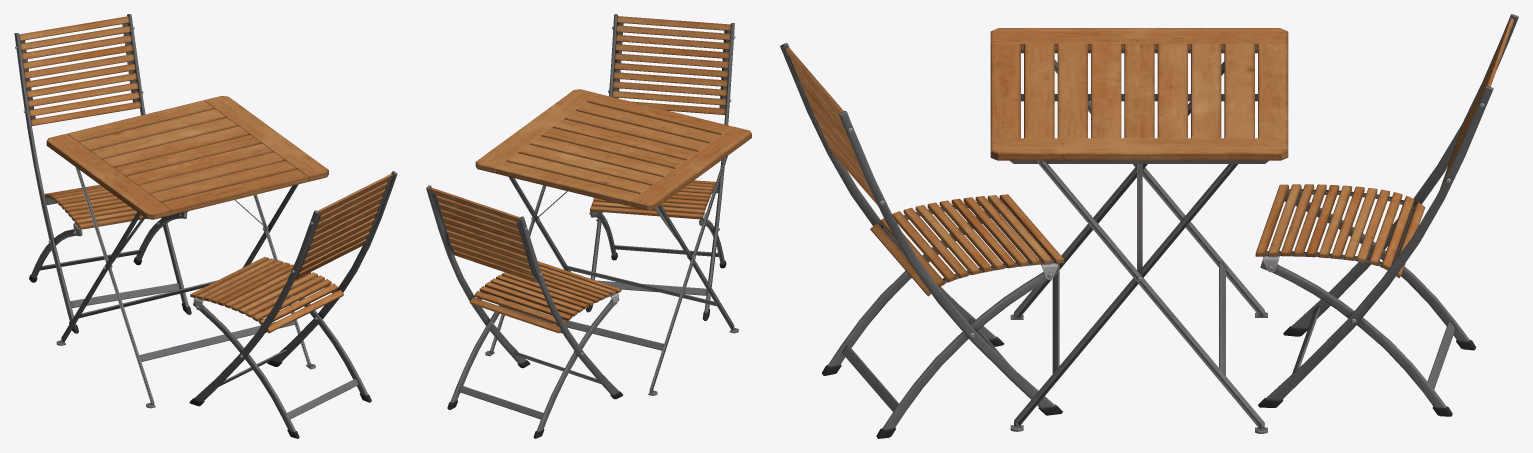
The model's file is outdoor_table_chair_set_01.glb.
3 renders of one model, left to right at view 1: azimuth 30°, elevation 25°; view 2: azimuth 150°, elevation 25°; view 3: azimuth 270°, elevation 25°, orthographic. The views are drawn at different scales.
Parts seen in each view (by area): view 1: outdoor_table_chair_set_01_chair_01, outdoor_table_chair_set_01_table; view 2: outdoor_table_chair_set_01_chair_01, outdoor_table_chair_set_01_table; view 3: outdoor_table_chair_set_01_table, outdoor_table_chair_set_01_chair_01.
Boxes of the visible parts, <box> form: outdoor_table_chair_set_01_chair_01: <box>14,14,397,438</box>; outdoor_table_chair_set_01_table: <box>46,96,328,408</box>; outdoor_table_chair_set_01_chair_01: <box>426,14,735,438</box>; outdoor_table_chair_set_01_table: <box>475,89,751,395</box>; outdoor_table_chair_set_01_table: <box>990,28,1288,433</box>; outdoor_table_chair_set_01_chair_01: <box>780,14,1518,438</box>.
Size of the model in its own units: 0.7417 by 0.8587 by 1.72.
2 materials, 2 textured.
